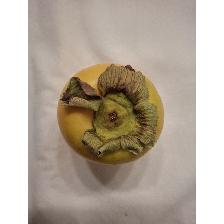Kaki: (55, 58, 169, 168)
